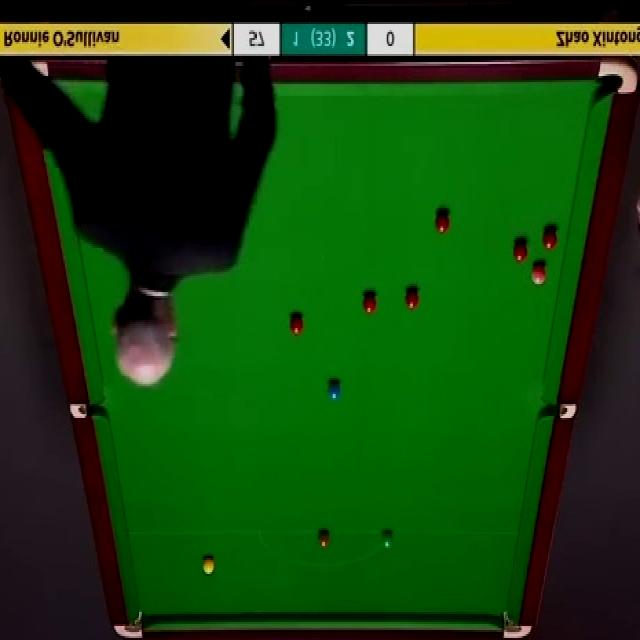blue-ball: (328, 378, 341, 404)
brown-ball: (317, 531, 331, 549)
green-ball: (380, 530, 395, 552)
pink-ball: (530, 264, 549, 284)
red-ball: (433, 208, 451, 233), (362, 290, 377, 316), (403, 288, 420, 310), (542, 226, 558, 248), (513, 240, 527, 264), (289, 316, 303, 337)
yellow-ball: (203, 555, 215, 574)
